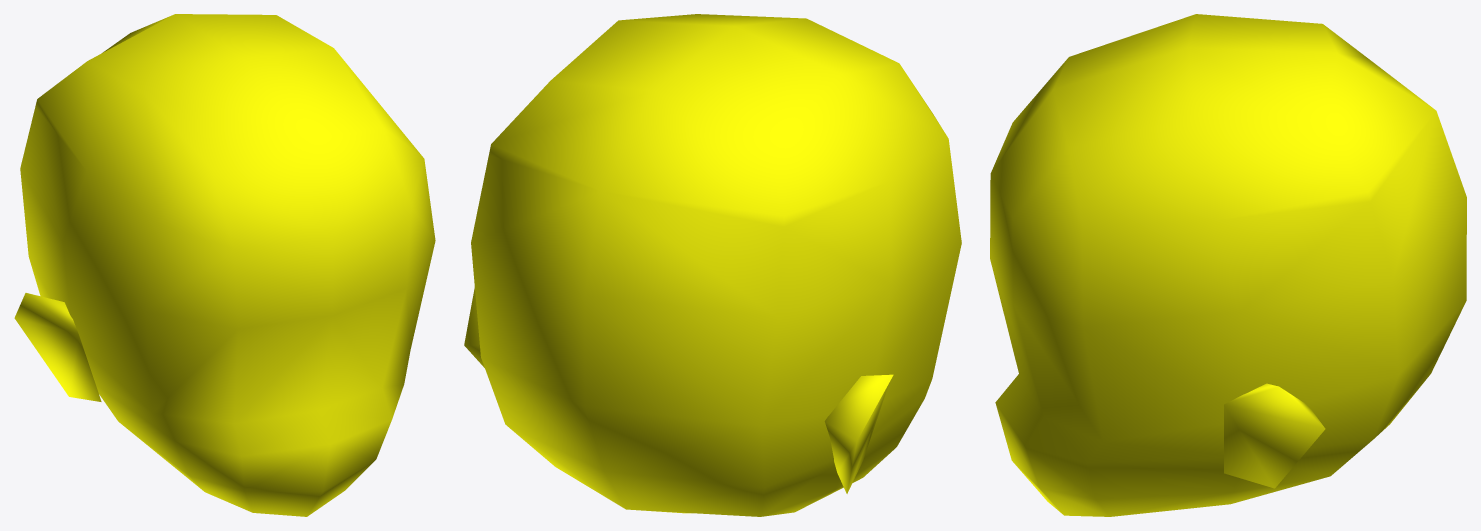
The model's file is char_headModel.glb.
The picture shows the model from 3 angles, left to right: view 1: azimuth 30°, elevation 25°; view 2: azimuth 150°, elevation 25°; view 3: azimuth 270°, elevation 25°; orthographic projection. The views are drawn at different scales.
Visible parts, largest first — view 1: char_head; view 2: char_head; view 3: char_head.
Boxes of the visible parts, <box> form: char_head: <box>14,14,435,516</box>; char_head: <box>464,14,961,516</box>; char_head: <box>990,14,1466,516</box>.
Size of the model in its own units: 0.5399 by 0.6031 by 0.5744.
1 material, 1 textured.
